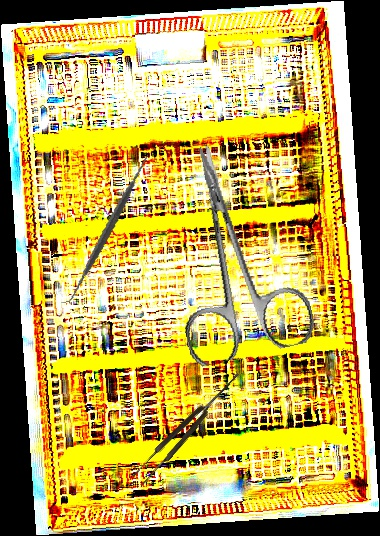Iris Scissors: (145, 131, 319, 369)
Spatula Surgical: (35, 153, 182, 304)
Tissue Forceps: (130, 368, 246, 487)
